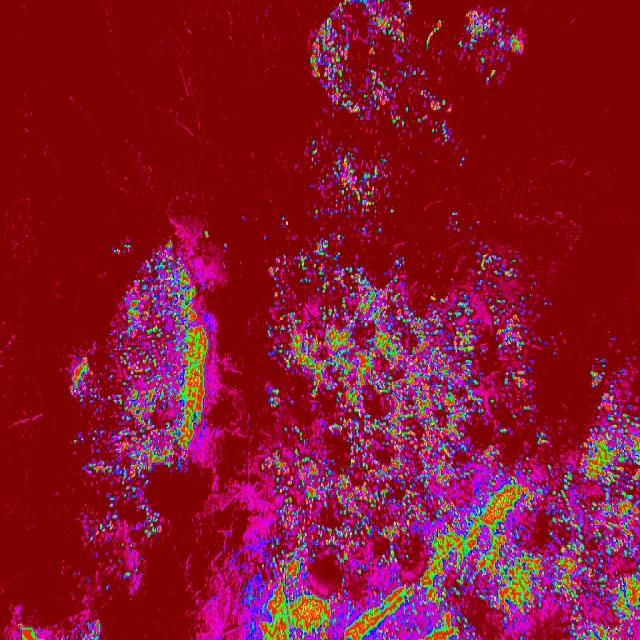fire: (266, 246, 538, 640), (110, 228, 224, 470), (64, 350, 160, 560), (588, 350, 640, 640), (310, 0, 414, 114), (538, 435, 588, 640), (214, 485, 266, 639), (318, 138, 392, 231), (463, 1, 524, 79), (12, 611, 102, 640)
